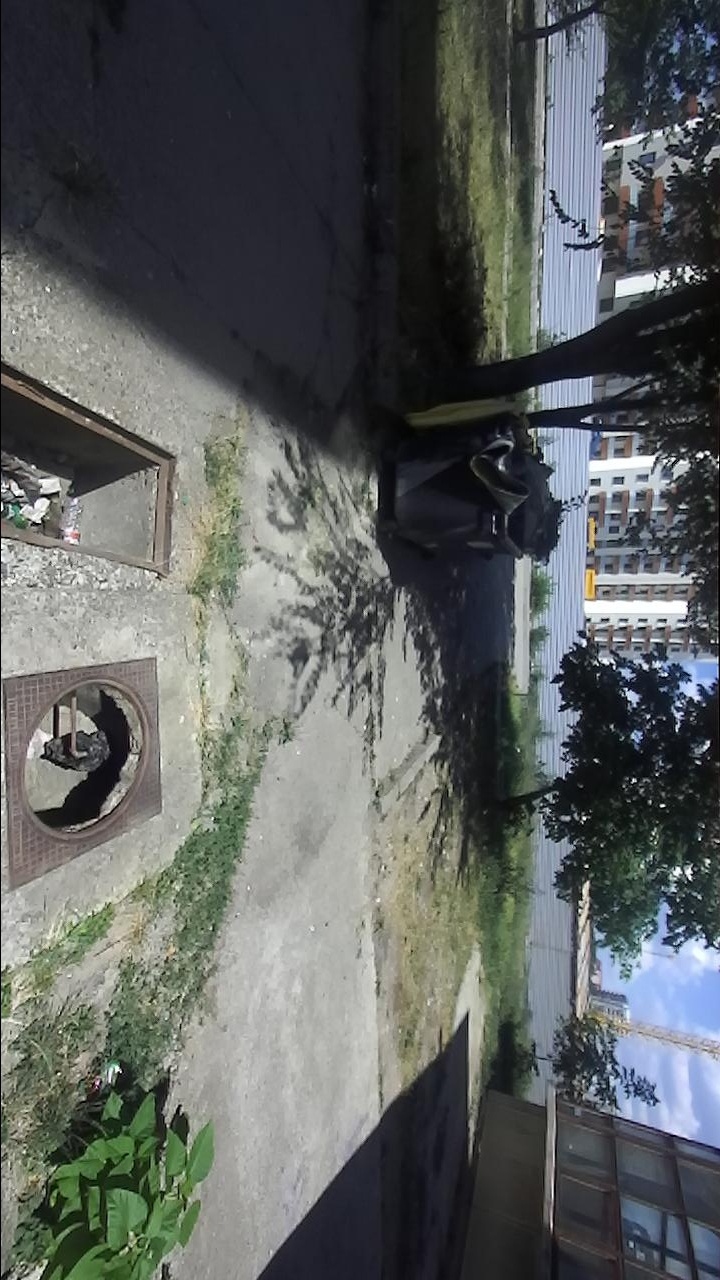drain: (0, 359, 181, 579), (21, 673, 153, 854)
